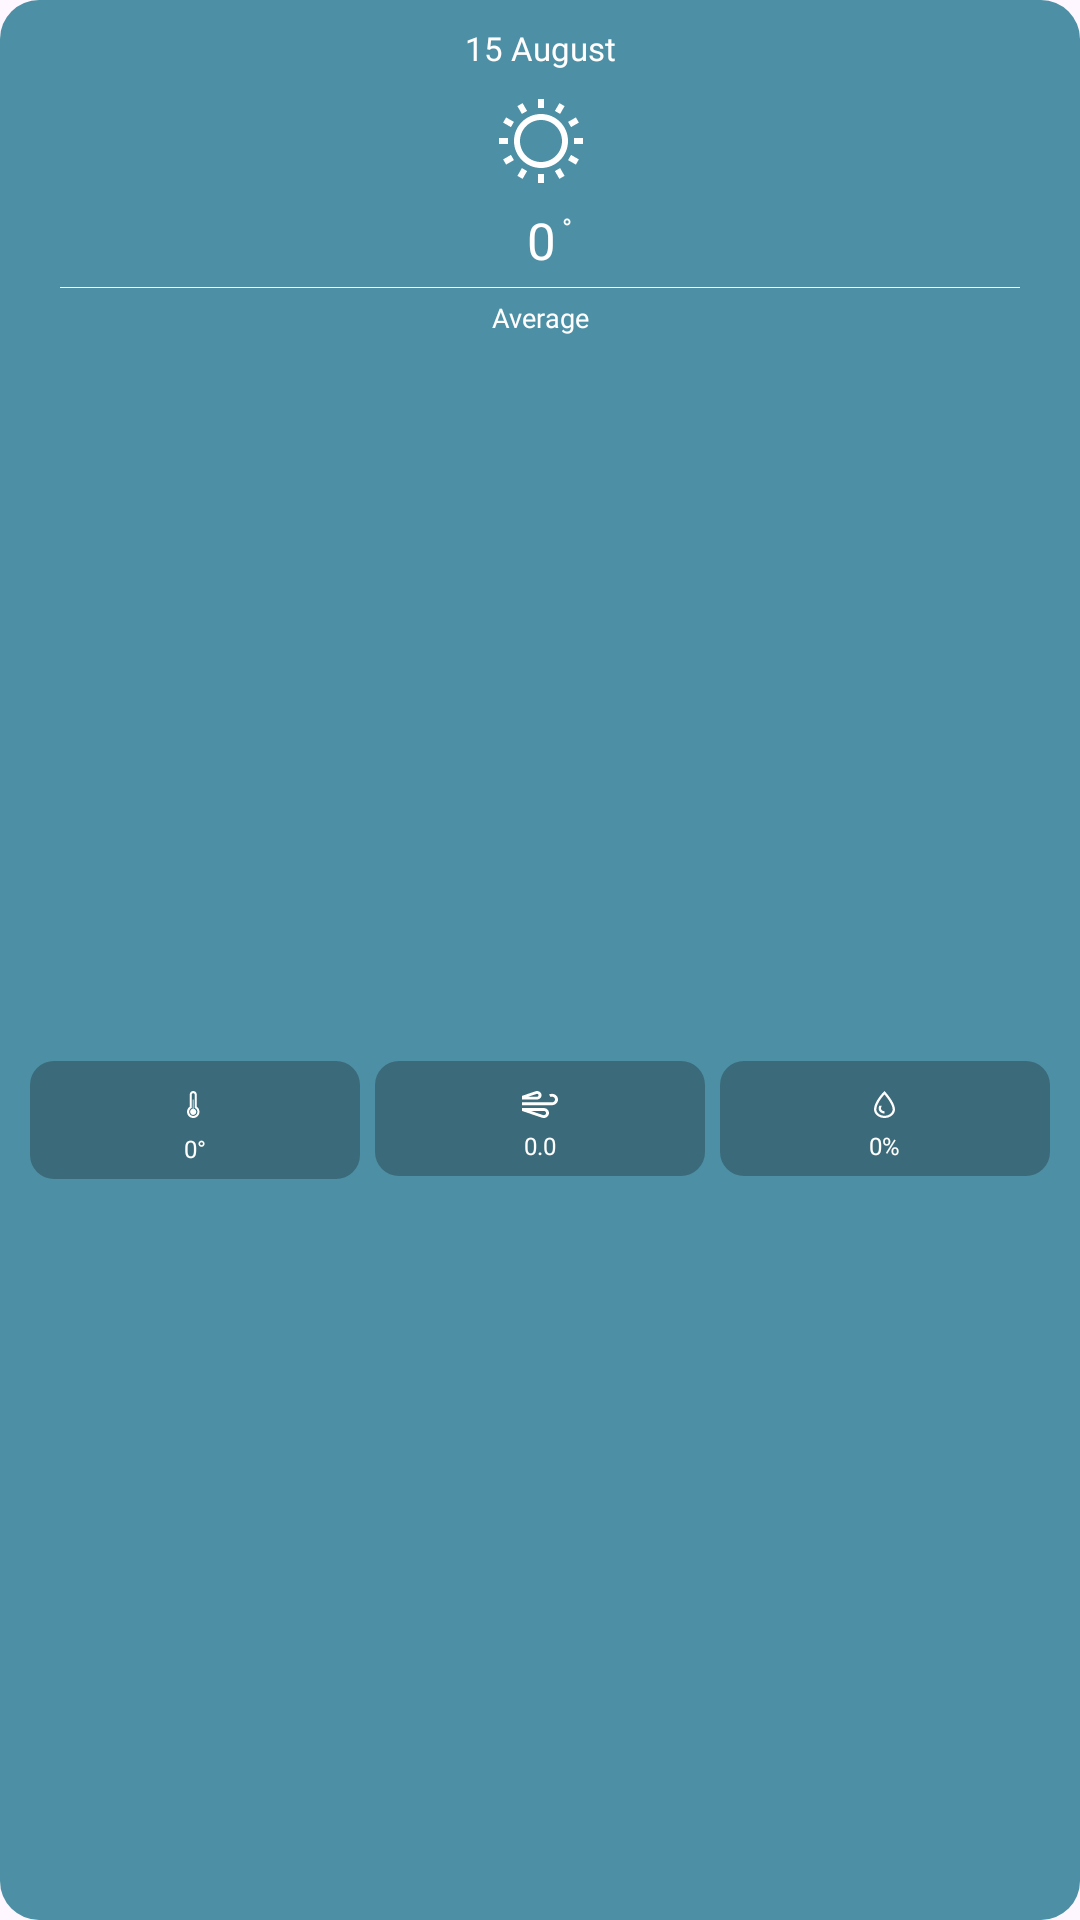

Icons on this 1080px x 1920px Android screen, each with the point to tap as (x,y):
sun sm: (541,141)
wind sm: (540,1104)
